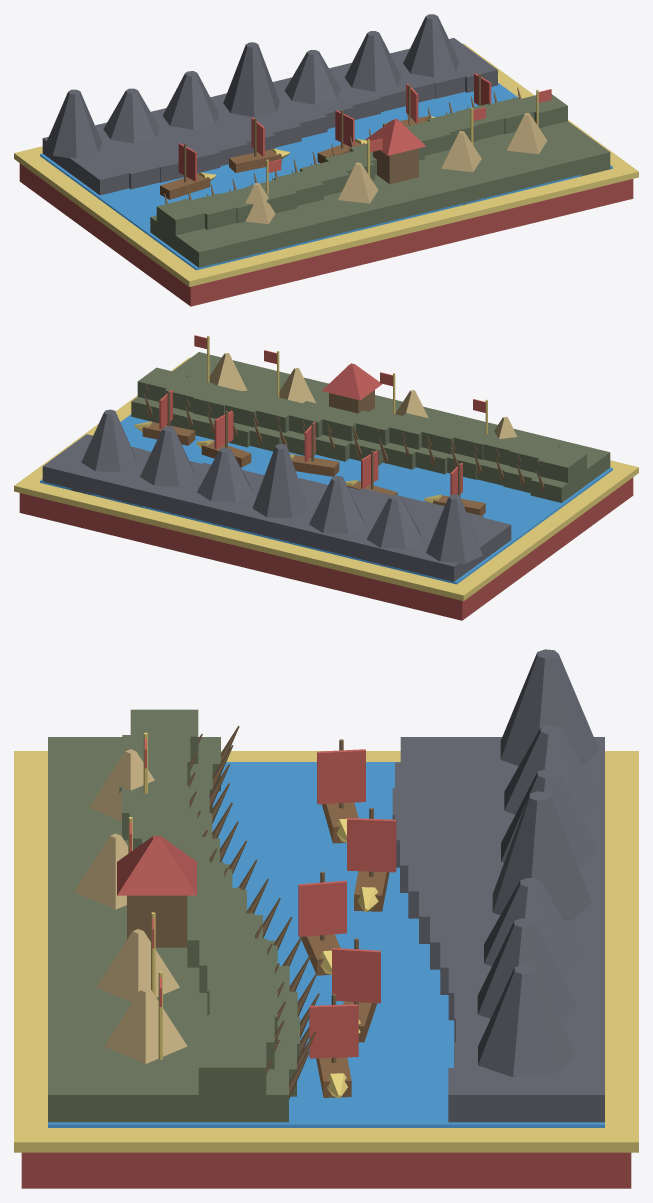
The model's file is sa_ban_nhu_nguyet.glb.
3 views of the same model, one above another, from view 1: azimuth 30°, elevation 25°; view 2: azimuth 150°, elevation 25°; view 3: azimuth 270°, elevation 25° (orthographic). The views are drawn at different scales.
Visible parts, largest first — view 1: Sa_Ban_Nhu_Nguyet; view 2: Sa_Ban_Nhu_Nguyet; view 3: Sa_Ban_Nhu_Nguyet.
Part boxes in pixels (x1,y1,x2,y2): Sa_Ban_Nhu_Nguyet: (14, 14, 638, 306); Sa_Ban_Nhu_Nguyet: (14, 335, 638, 620); Sa_Ban_Nhu_Nguyet: (14, 649, 638, 1188).
Bounding box in the file's own units: 2.46 × 0.5492 × 1.66.
